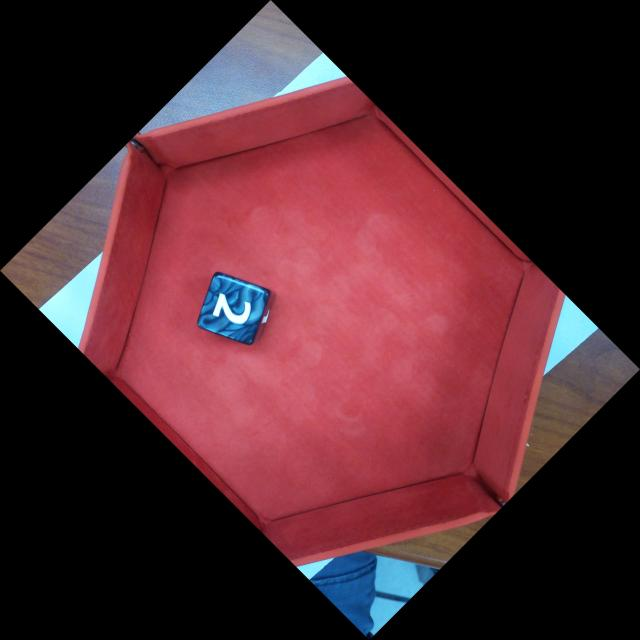dice: (196, 271, 272, 346)
